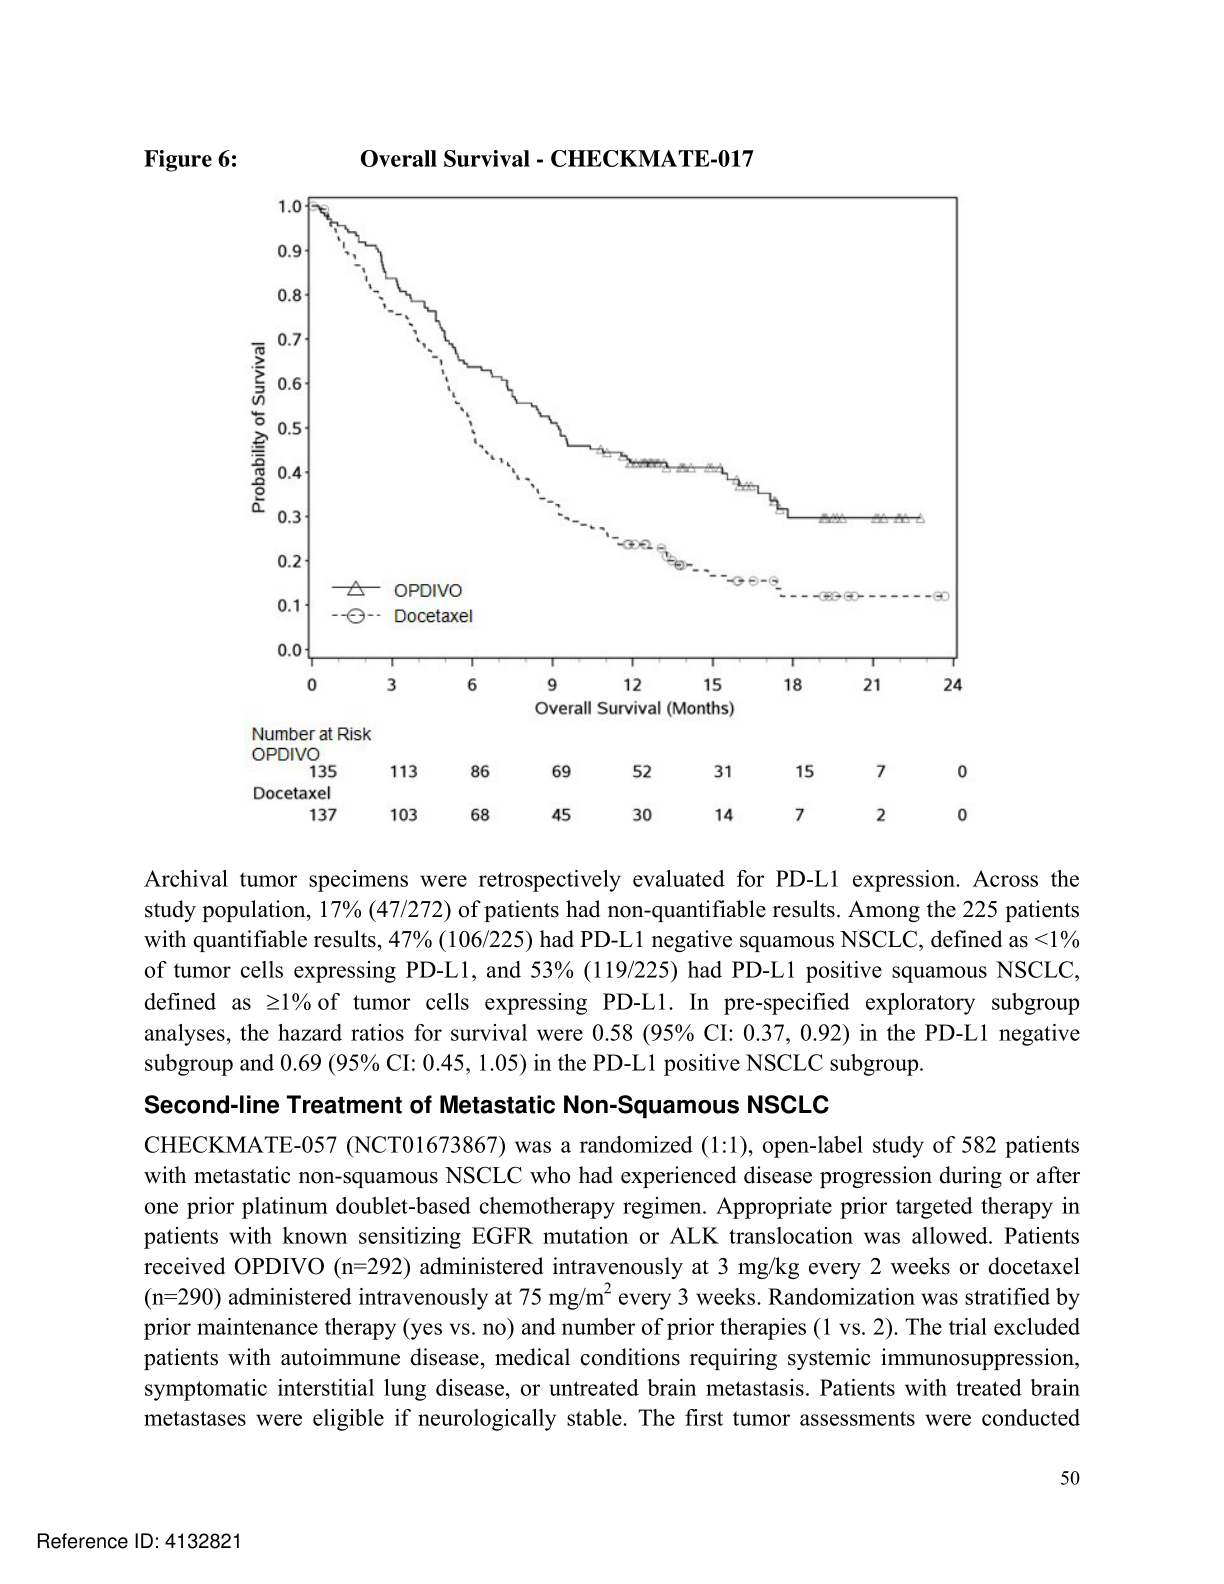nolines: (247, 744, 972, 825)
